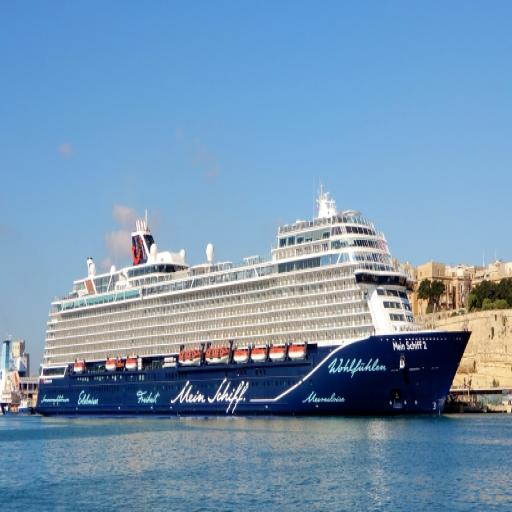cruises: (31, 189, 476, 430)
